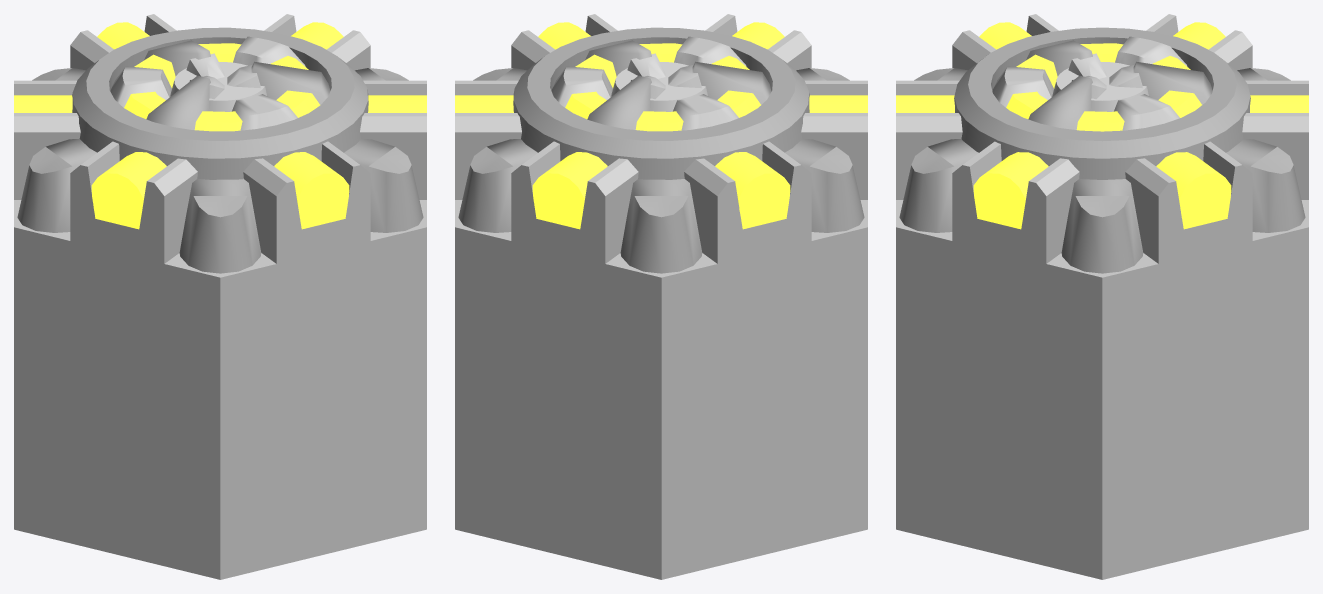
Rendered from SM_Module_Reactor_Hex1.fbx.
3 renders of one model, left to right at view 1: azimuth 30°, elevation 25°; view 2: azimuth 150°, elevation 25°; view 3: azimuth 270°, elevation 25°, orthographic.
Visible parts, largest first — view 1: SM_Module_Reactor_Hex1; view 2: SM_Module_Reactor_Hex1; view 3: SM_Module_Reactor_Hex1.
Boxes of the visible parts, bbox=[...] form: SM_Module_Reactor_Hex1: bbox=[14, 14, 426, 579]; SM_Module_Reactor_Hex1: bbox=[455, 14, 867, 579]; SM_Module_Reactor_Hex1: bbox=[896, 14, 1308, 579].
Size of the model in its own units: 4 by 3.46 by 3.84.
